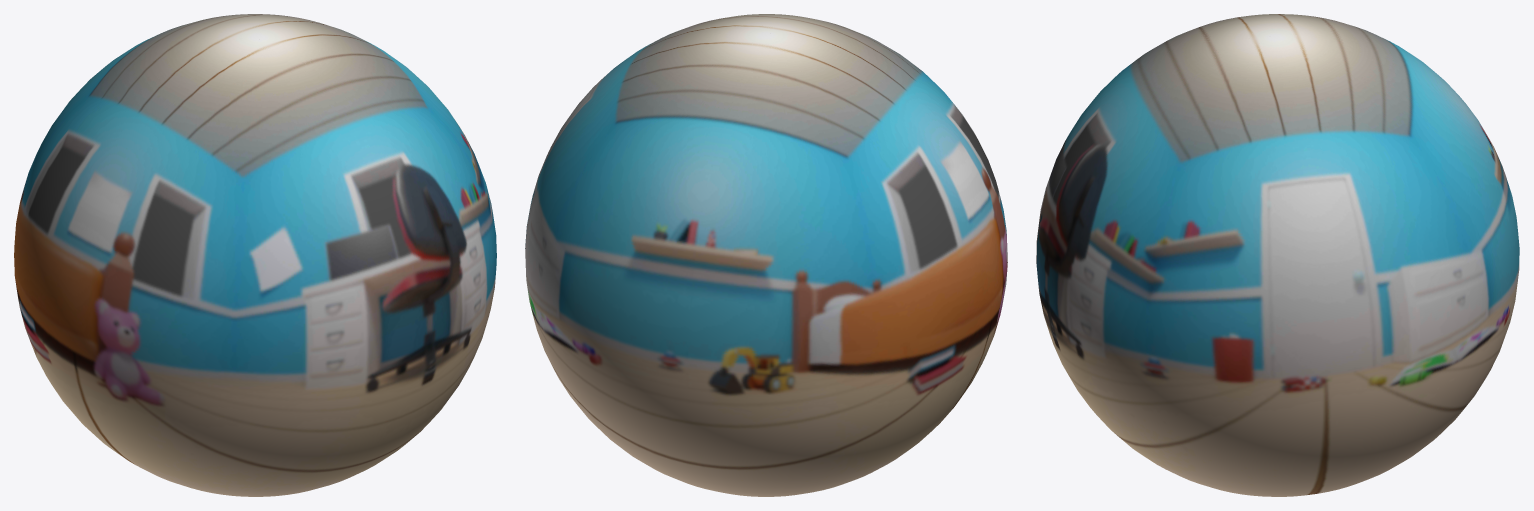
File: _HotWheelsTrack.fbx
The picture shows the model from 3 angles, left to right: view 1: azimuth 30°, elevation 25°; view 2: azimuth 150°, elevation 25°; view 3: azimuth 270°, elevation 25°; orthographic projection.
Visible parts, largest first — view 1: skyboxRoomtest; view 2: skyboxRoomtest; view 3: skyboxRoomtest.
Boxes of the visible parts, box(x1,y1,x2,y2) form: skyboxRoomtest: box(14, 14, 496, 496); skyboxRoomtest: box(525, 14, 1007, 496); skyboxRoomtest: box(1036, 14, 1519, 496).
Size of what is drawn, in the model's own units: 635 by 634 by 634.
